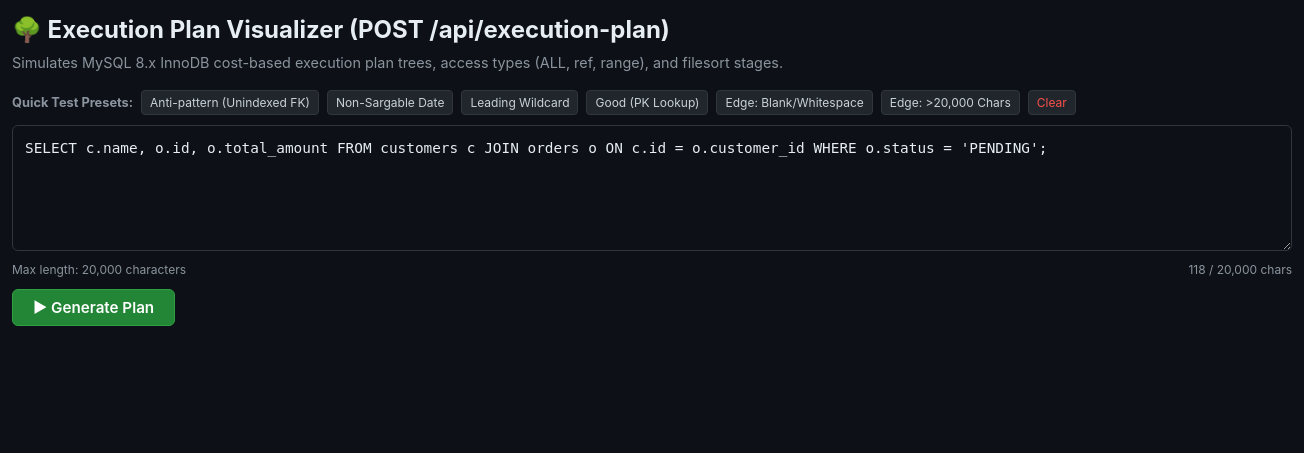
ExecutionPlanPage Component › handles 400 Bad Request error cleanly with ErrorBanner
What coordinates should you click on to do the following:
click the button "▶ Generate Plan"
I would click on:
 (94, 308)
Its box is x1=12 y1=289 x2=175 y2=326.
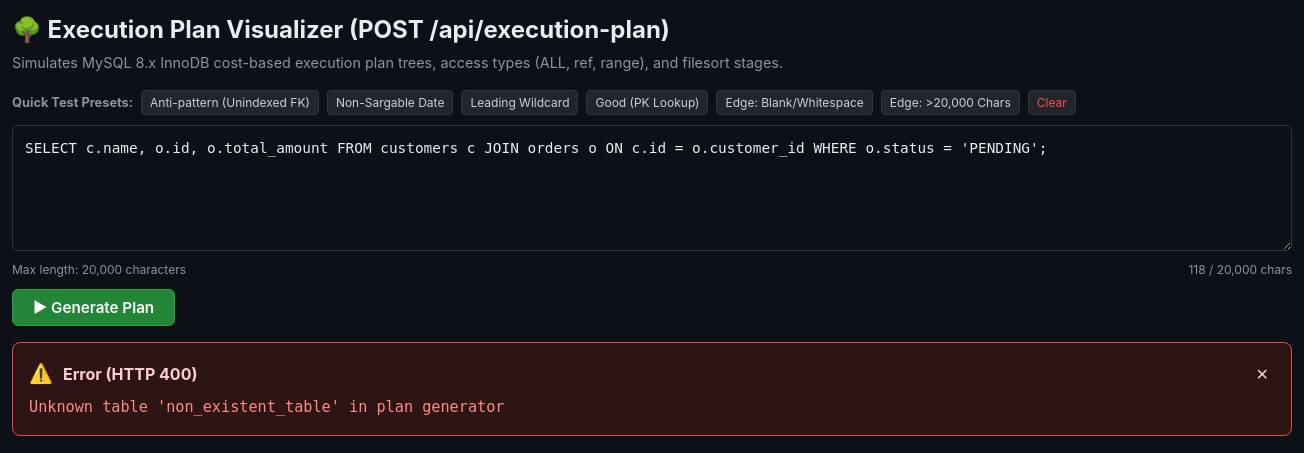
Check: the text "Unknown table 'non_existent_table' in plan generator" is shown, box x1=29 y1=398 x2=504 y2=416
Check: the text "Error (HTTP 400)" is shown, box x1=63 y1=362 x2=198 y2=386
